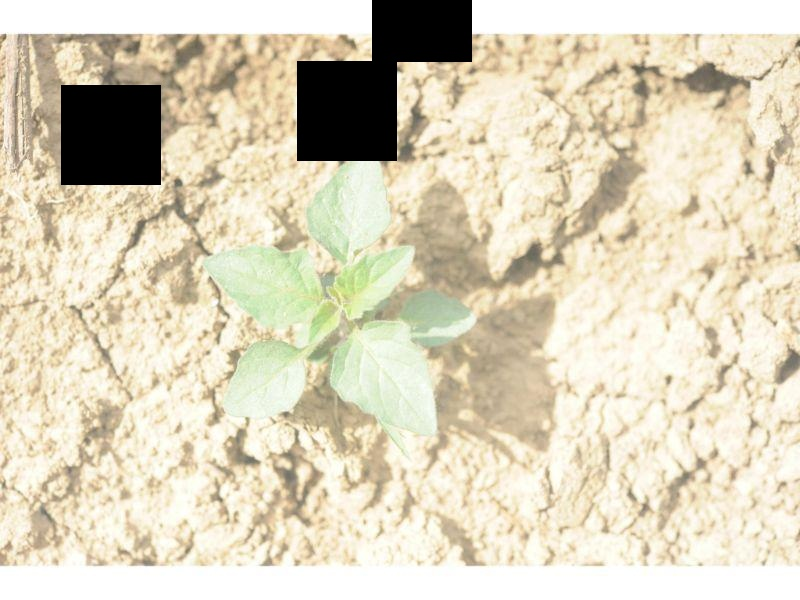nightshade: (203, 153, 476, 437)
